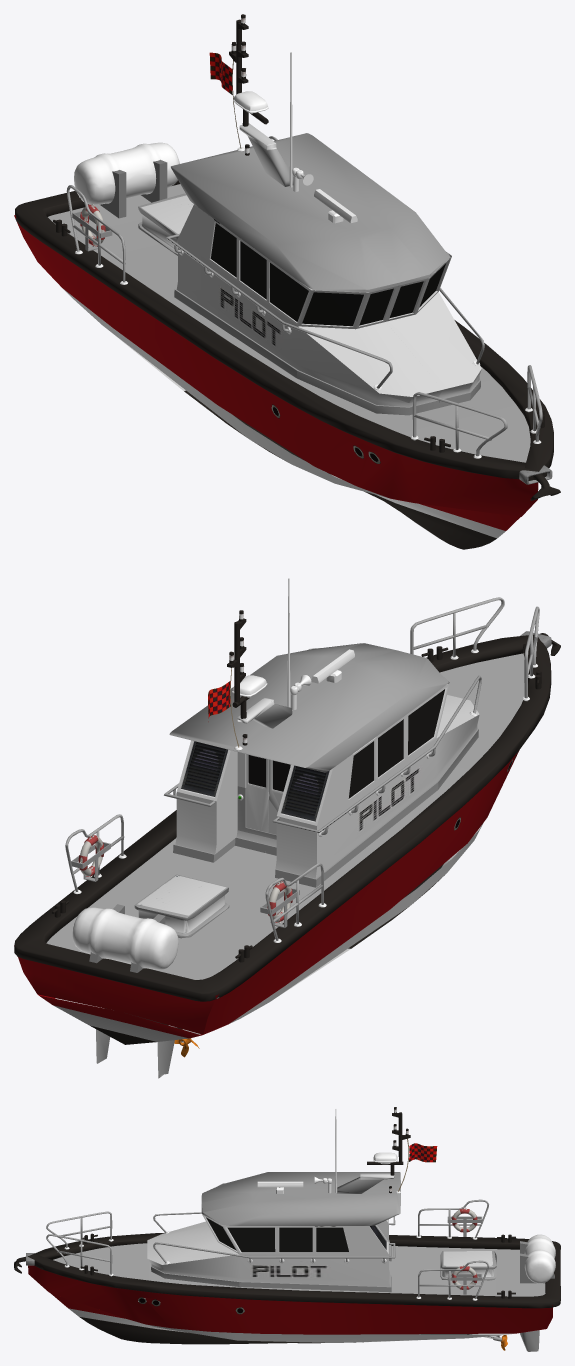
Rendered from pilot.glb.
The picture shows the model from 3 angles, top to bottom: view 1: azimuth 30°, elevation 25°; view 2: azimuth 150°, elevation 25°; view 3: azimuth 270°, elevation 25°; orthographic projection. The views are drawn at different scales.
Visible parts, largest first — view 1: vehicle; view 2: vehicle; view 3: vehicle.
Part boxes in pixels (<box>): vehicle: <box>14,14,560,549</box>; vehicle: <box>14,578,560,1078</box>; vehicle: <box>14,1107,560,1351</box>.
Size of the model in its own units: 5.01 by 8.6 by 18.
Materials: 17 (14 with a texture image).
